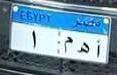1: (31, 28, 38, 49)
alif: (95, 38, 103, 58)
haa: (77, 40, 91, 55)
meem: (62, 35, 74, 53)
